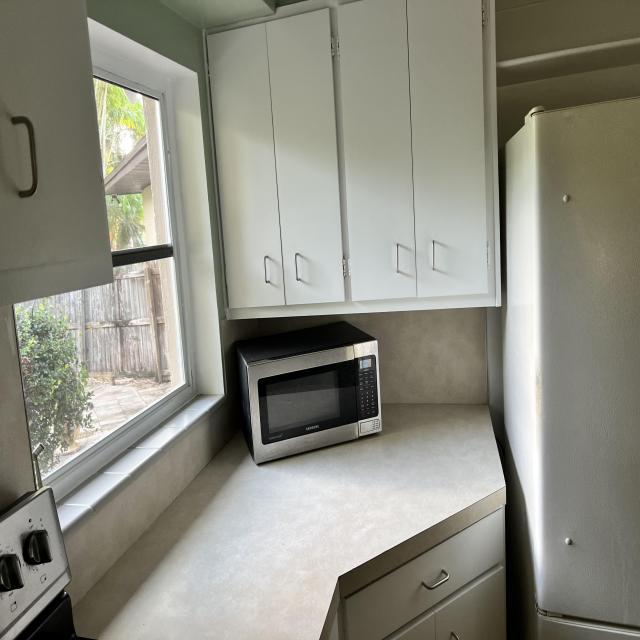Appliance_Fridge: (493, 96, 640, 640)
Appliance_Microwave: (229, 320, 382, 467)
Appliance_Oven: (0, 489, 76, 640)
Cabinet_Flat: (201, 0, 502, 322), (0, 0, 114, 308), (336, 509, 506, 640)
Countertop_Laminate: (74, 404, 507, 640)
